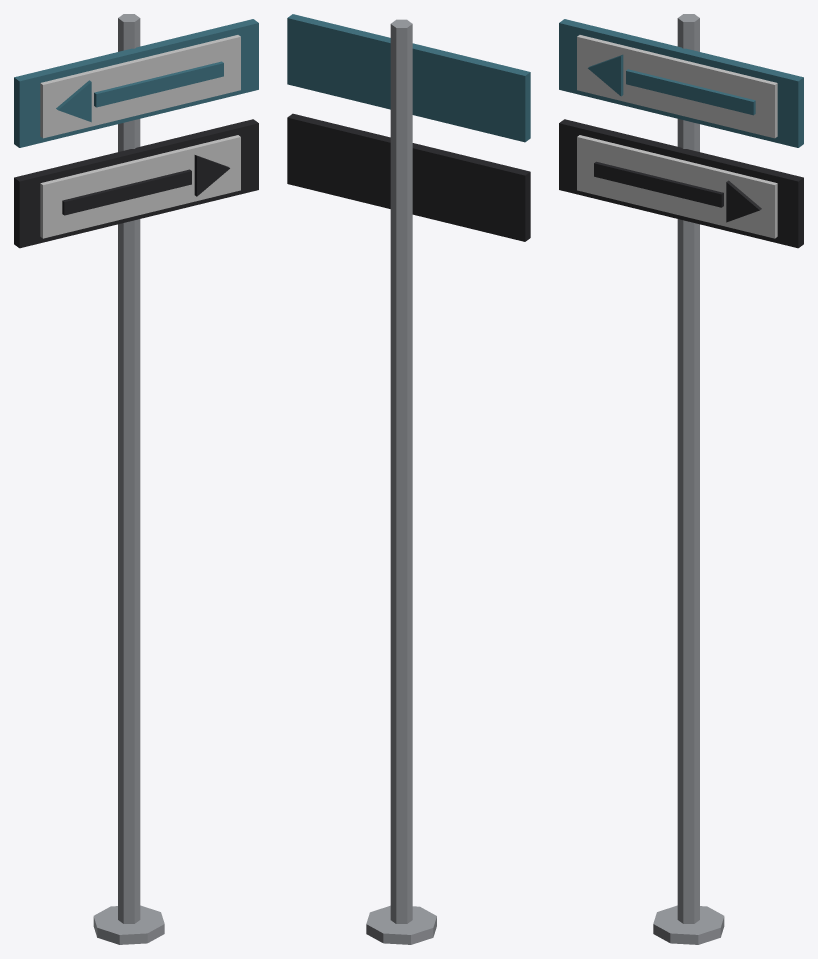
The model's file is objet_panneau_direction.glb.
3 views of the same model, side by side, from view 1: azimuth 30°, elevation 25°; view 2: azimuth 150°, elevation 25°; view 3: azimuth 330°, elevation 25° (orthographic).
Visible parts, largest first — view 1: objet_panneau_direction; view 2: objet_panneau_direction; view 3: objet_panneau_direction.
Part boxes in pixels (x1,y1,x2,y2): objet_panneau_direction: [14, 14, 258, 944]; objet_panneau_direction: [287, 14, 530, 944]; objet_panneau_direction: [559, 14, 803, 944].
Bounding box in the file's own units: 0.75 × 2.73 × 0.2.
